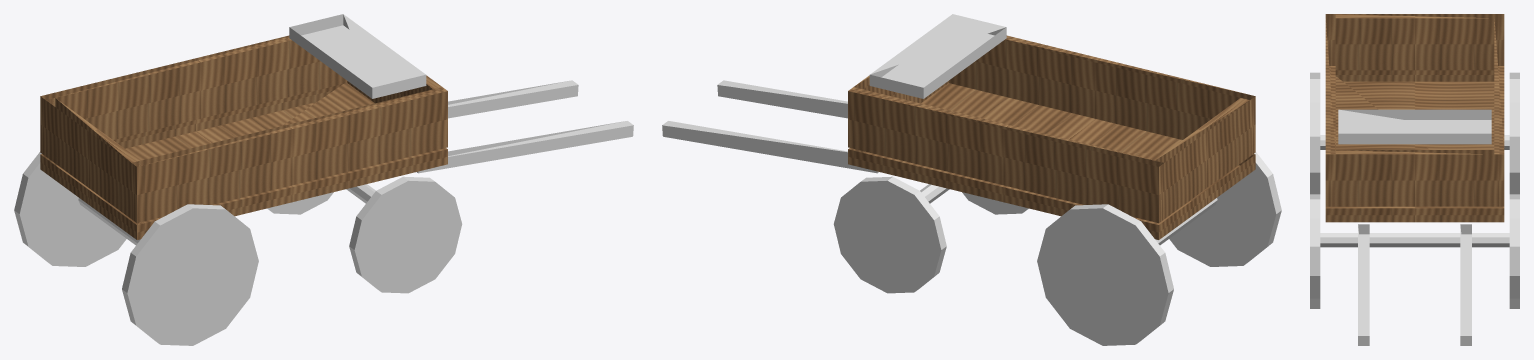
The model's file is Wagon_Western_Wooden.fbx.
The picture shows the model from 3 angles, left to right: view 1: azimuth 30°, elevation 25°; view 2: azimuth 150°, elevation 25°; view 3: azimuth 270°, elevation 25°; orthographic projection. The views are drawn at different scales.
Parts seen in each view (by area): view 1: Wagon_Western_Wooden_Wall_R, Wagon_Western_Wooden_Wall_L, Wagon_Western_Wooden_Wheel_BR, Wagon_Western_Wooden_Bed, Wagon_Western_Wooden_Wheel_FR, Wagon_Western_Wooden_Wheel_BL, Wagon_Western_Wooden_Bench, Wagon_Western_Wooden_Wall_Back, Wagon_Western_Wooden_Shaft_R, Wagon_Western_Wooden_Shaft_L, Wagon_Western_Wooden_Wheel_FL, Wagon_Western_Wooden_Wall_Front; view 2: Wagon_Western_Wooden_Wall_L, Wagon_Western_Wooden_Wall_R, Wagon_Western_Wooden_Wheel_BL, Wagon_Western_Wooden_Bed, Wagon_Western_Wooden_Wheel_FL, Wagon_Western_Wooden_Wheel_BR, Wagon_Western_Wooden_Bench, Wagon_Western_Wooden_Wall_Back, Wagon_Western_Wooden_Shaft_L, Wagon_Western_Wooden_Shaft_R, Wagon_Western_Wooden_Wheel_FR, Wagon_Western_Wooden_Wall_Front; view 3: Wagon_Western_Wooden_Bed, Wagon_Western_Wooden_Wall_Front, Wagon_Western_Wooden_Wall_Back, Wagon_Western_Wooden_Bench, Wagon_Western_Wooden_Axle_Front, Wagon_Western_Wooden_Wall_L, Wagon_Western_Wooden_Wall_R, Wagon_Western_Wooden_Shaft_L, Wagon_Western_Wooden_Shaft_R, Wagon_Western_Wooden_Wheel_BL, Wagon_Western_Wooden_Wheel_BR, Wagon_Western_Wooden_Wheel_FL (+2 smaller).
Boxes of the visible parts, x1,y1,x2,y2 form: Wagon_Western_Wooden_Wall_R: [131, 87, 447, 223]; Wagon_Western_Wooden_Wall_L: [40, 35, 347, 156]; Wagon_Western_Wooden_Wheel_BR: [122, 204, 258, 345]; Wagon_Western_Wooden_Bed: [40, 83, 447, 239]; Wagon_Western_Wooden_Wheel_FR: [349, 176, 462, 293]; Wagon_Western_Wooden_Wheel_BL: [14, 151, 126, 266]; Wagon_Western_Wooden_Bench: [289, 14, 426, 98]; Wagon_Western_Wooden_Wall_Back: [46, 98, 140, 218]; Wagon_Western_Wooden_Shaft_R: [417, 121, 633, 173]; Wagon_Western_Wooden_Shaft_L: [448, 80, 578, 118]; Wagon_Western_Wooden_Wheel_FL: [267, 192, 333, 214]; Wagon_Western_Wooden_Wall_Front: [347, 75, 441, 103]; Wagon_Western_Wooden_Wall_L: [848, 87, 1164, 223]; Wagon_Western_Wooden_Wall_R: [948, 35, 1255, 156]; Wagon_Western_Wooden_Wheel_BL: [1037, 204, 1173, 345]; Wagon_Western_Wooden_Bed: [848, 83, 1255, 239]; Wagon_Western_Wooden_Wheel_FL: [833, 176, 946, 293]; Wagon_Western_Wooden_Wheel_BR: [1169, 151, 1281, 266]; Wagon_Western_Wooden_Bench: [869, 14, 1006, 98]; Wagon_Western_Wooden_Wall_Back: [1155, 98, 1249, 218]; Wagon_Western_Wooden_Shaft_L: [662, 121, 878, 173]; Wagon_Western_Wooden_Shaft_R: [717, 80, 847, 118]; Wagon_Western_Wooden_Wheel_FR: [962, 192, 1028, 214]; Wagon_Western_Wooden_Wall_Front: [854, 75, 948, 103]; Wagon_Western_Wooden_Bed: [1325, 70, 1504, 222]; Wagon_Western_Wooden_Wall_Front: [1335, 150, 1494, 206]; Wagon_Western_Wooden_Wall_Back: [1335, 14, 1494, 70]; Wagon_Western_Wooden_Bench: [1338, 109, 1491, 144]; Wagon_Western_Wooden_Axle_Front: [1320, 233, 1509, 247]; Wagon_Western_Wooden_Wall_L: [1494, 14, 1504, 206]; Wagon_Western_Wooden_Wall_R: [1325, 14, 1335, 206]; Wagon_Western_Wooden_Shaft_L: [1460, 224, 1471, 345]; Wagon_Western_Wooden_Shaft_R: [1358, 224, 1369, 345]; Wagon_Western_Wooden_Wheel_BL: [1509, 72, 1519, 194]; Wagon_Western_Wooden_Wheel_BR: [1310, 72, 1320, 194]; Wagon_Western_Wooden_Wheel_FL: [1509, 194, 1519, 308].
Size of the model in its own units: 4.45 by 1.6 by 1.64.
2 materials, 1 textured.
